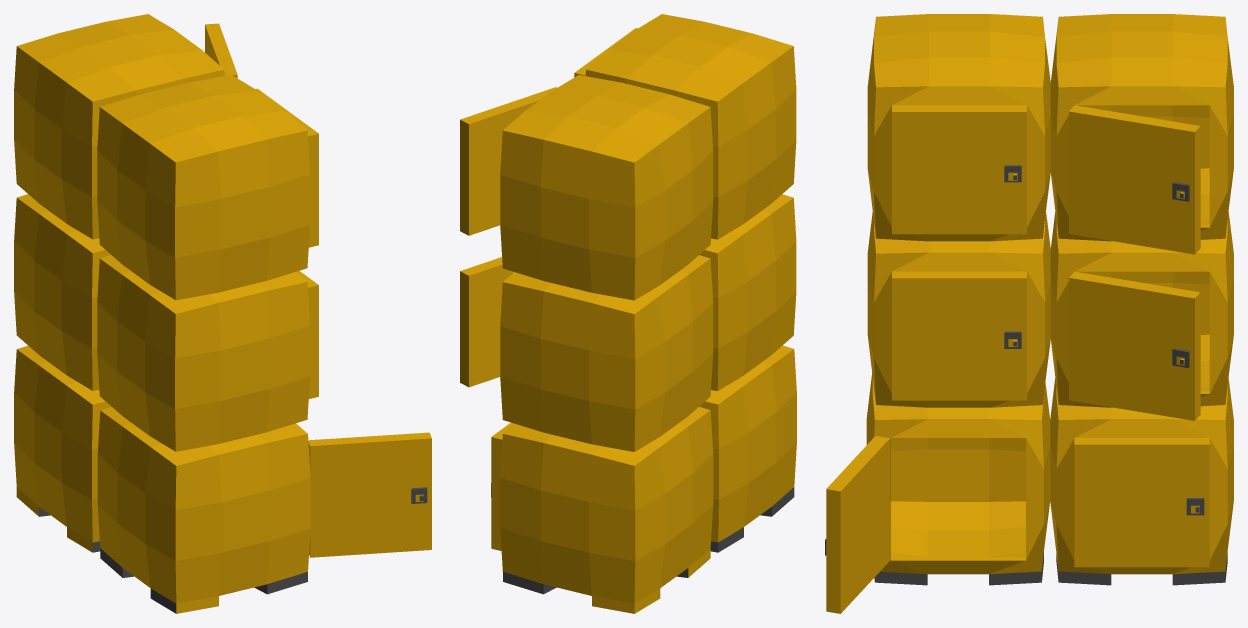
File: lockers.glb
The picture shows the model from 3 angles, left to right: view 1: azimuth 30°, elevation 25°; view 2: azimuth 150°, elevation 25°; view 3: azimuth 270°, elevation 25°; orthographic projection. The views are drawn at different scales.
Parts seen in each view (by area): view 1: lockers_abiertos, locker3, locker2, locker1, puerta3, puerta2; view 2: lockers_abiertos, locker1, locker3, locker2, puerta1; view 3: lockers_abiertos, locker3, puerta1, puerta2, puerta3, locker1, locker2.
Boxes of the visible parts, x1,y1,x2,y2 form: lockers_abiertos: [14, 14, 431, 613]; locker3: [97, 75, 309, 300]; locker2: [97, 255, 309, 451]; locker1: [14, 345, 111, 552]; puerta3: [255, 88, 318, 247]; puerta2: [296, 271, 318, 398]; lockers_abiertos: [460, 75, 796, 552]; locker1: [500, 406, 713, 613]; locker3: [585, 14, 796, 239]; locker2: [699, 194, 796, 391]; puerta1: [491, 422, 513, 550]; lockers_abiertos: [825, 14, 1233, 613]; locker3: [867, 14, 1050, 241]; puerta1: [1074, 438, 1209, 567]; puerta2: [892, 271, 1026, 400]; puerta3: [892, 105, 1026, 234]; locker1: [1050, 378, 1233, 585]; locker2: [867, 212, 1050, 407].
Size of the model in its own units: 3.38 by 6.13 by 4.45.
